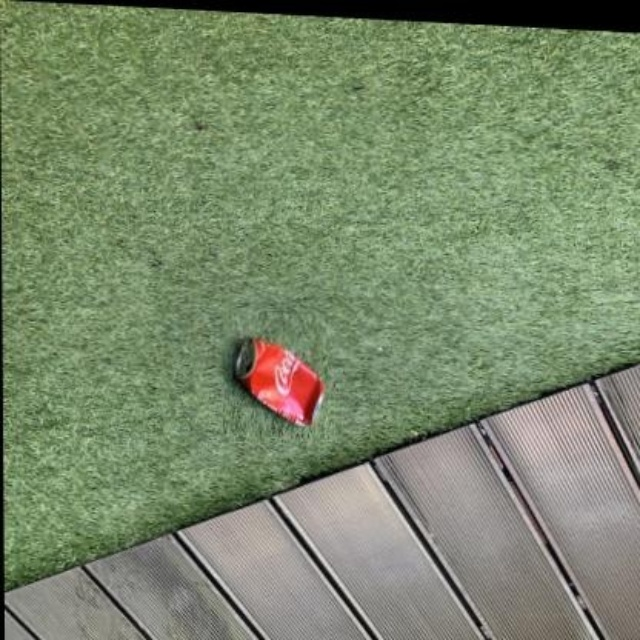trash: (234, 338, 323, 425)
